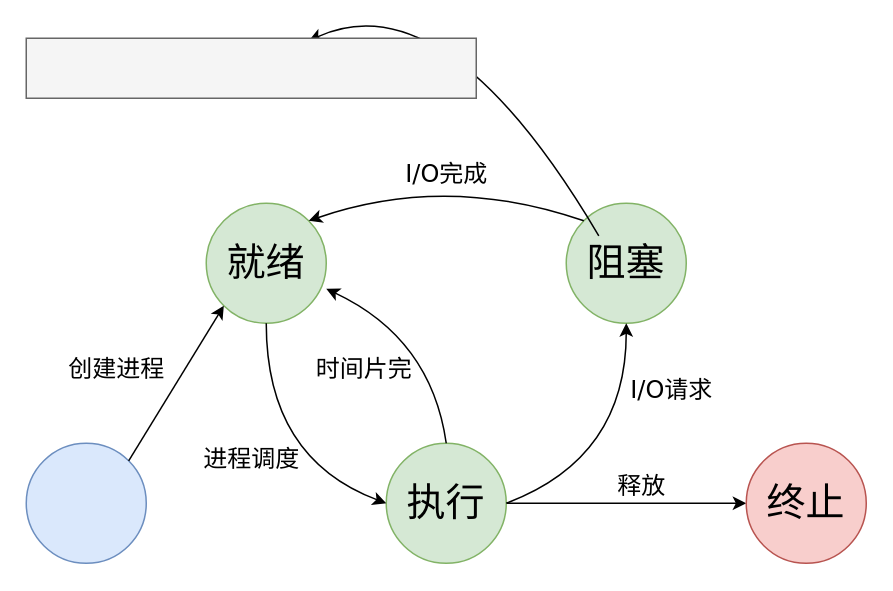
The diagram is 893 pixels wide and 591 high, and some of its shapes have lost their labels. The shapes that lost their labels are listed below. From the top down, each one's centre as x and y in pixels, then its label:
At point 250,67: "进程的五状态模型图".
At point 85,502: "创建".
